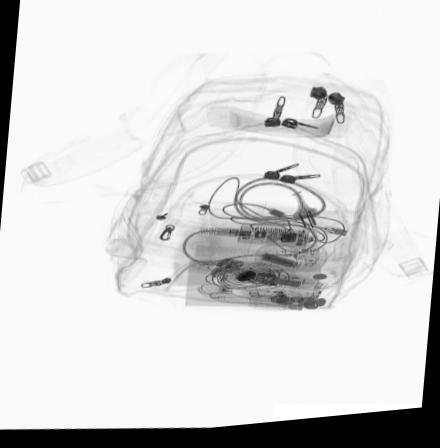Lighter: (238, 291, 292, 305)
